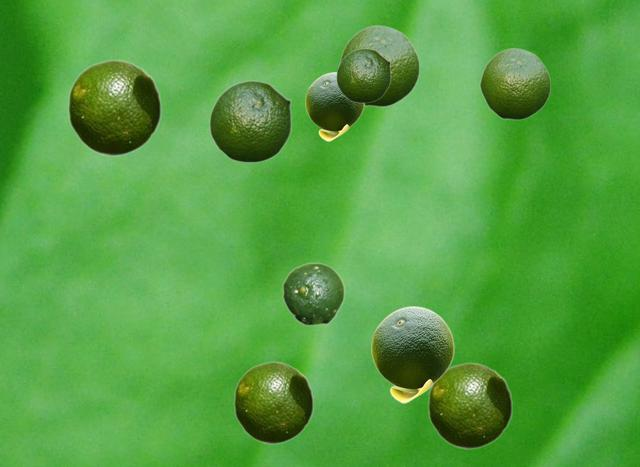calamansi: (67, 59, 161, 155), (371, 306, 453, 402), (427, 362, 512, 448), (209, 80, 291, 162), (338, 24, 419, 106), (233, 361, 313, 443), (479, 47, 550, 119), (305, 72, 363, 140), (282, 262, 344, 325), (336, 48, 390, 102)
